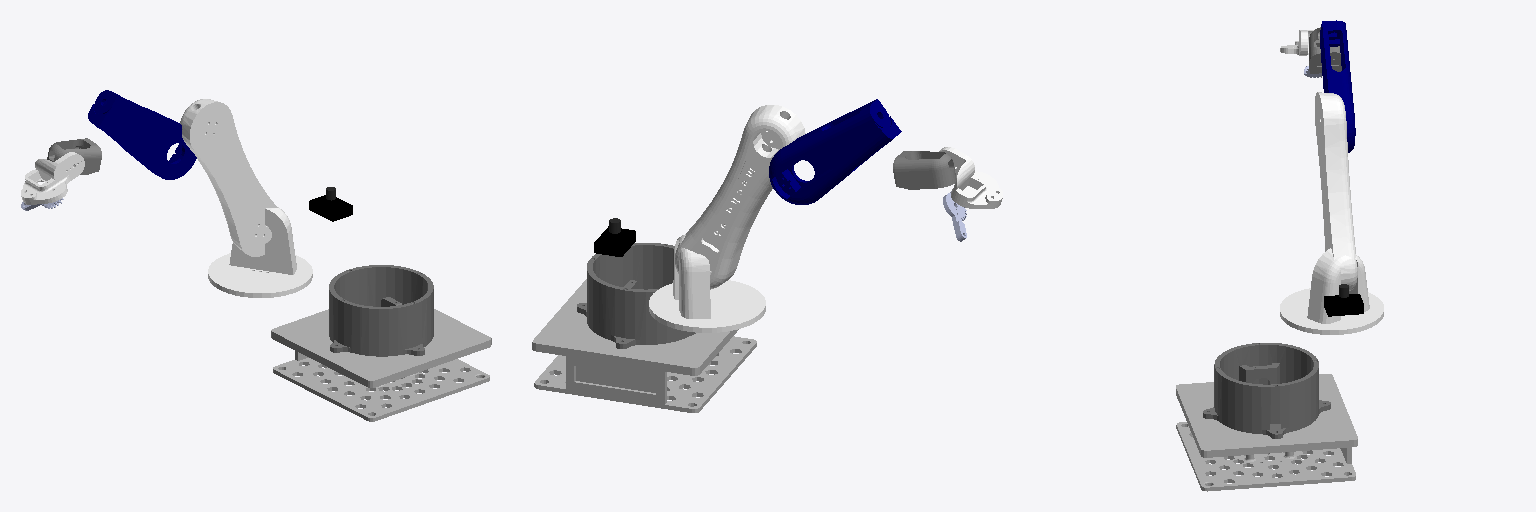
robot.urdf — rob_description:
<?xml version="1.0" encoding="utf-8"?>
<!-- This URDF was automatically created by SolidWorks to URDF Exporter! Originally created by [author] ([email redacted]) 
     Commit Version: 1.6.0-4-g7f85cfe  Build Version: 1.6.7995.38578
     For more information, please see http://wiki.ros.org/sw_urdf_exporter -->

<robot name="rob_description">

  <link name="world">
  </link>

  <joint name="base_joint" type="fixed">
    <parent link="world" />
    <child link="base_link" />
    <origin xyz="0 0 0" rpy="0 0 0.17" />
  </joint>

  <link name="base_link">
    <inertial>
      <origin xyz="-0.124197625058597 0.00274367991498083 0.0281247468294785" rpy="0 0 0" />
      <mass value="0.656438115996678" />
      <inertia ixx="0.003895075898173" ixy="1.5258603889919E-06" ixz="3.39817859970206E-07" iyy="0.00143454936579521" iyz="2.55052553619738E-08" izz="0.00473222212000206" />
    </inertial>
    <visual>
      <origin xyz="0 0 0" rpy="0 0 0" />
      <geometry>
        <mesh filename="package://rob_description/meshes/base_link.STL" />
      </geometry>
      <material name="">
        <color rgba="0.752941176470588 0.752941176470588 0.752941176470588 1" />
      </material>
    </visual>
    <collision>
      <origin xyz="0 0 0" rpy="0 0 0" />
      <geometry>
        <mesh filename="package://rob_description/meshes/base_link.STL" />
      </geometry>
    </collision>
  </link>
  <link name="wheel1_link">
    <inertial>
      <origin xyz="-0.126628947427152 0.126863211060582 0.0253644175398844" rpy="0 0 0" />
      <mass value="0.16694564800894" />
      <inertia ixx="6.72962951133883E-05" ixy="3.10993716638919E-12" ixz="-6.54064729646988E-10" iyy="0.000113206411587749" iyz="-7.85055532052009E-13" izz="6.72927975785051E-05" />
    </inertial>
    <visual>
      <origin xyz="0 0 0" rpy="0 0 0" />
      <geometry>
        <mesh filename="package://rob_description/meshes/wheel1_link.STL" />
      </geometry>
      <material name="">
        <color rgba="0.792156862745098 0.819607843137255 0.933333333333333 1" />
      </material>
    </visual>
    <collision>
      <origin xyz="0 0 0" rpy="0 0 0" />
      <geometry>
        <mesh filename="package://rob_description/meshes/wheel1_link.STL" />
      </geometry>
    </collision>
  </link>
  <joint name="wheel1_joint" type="continuous">
    <origin xyz="0 0 0" rpy="0 0 0" />
    <parent link="base_link" />
    <child link="wheel1_link" />
    <axis xyz="0 1 0" />
  </joint>
  <link name="wheel2_link">
    <inertial>
      <origin xyz="-0.132356573868759 -0.11924947645602 0.0145209236650498" rpy="0 0 0" />
      <mass value="0.166945648038275" />
      <inertia ixx="6.72949006017537E-05" ixy="-2.58989716971125E-12" ixz="-1.83316111335869E-09" iyy="0.000113206411597899" iyz="1.83613688313118E-12" izz="6.7294192100336E-05" />
    </inertial>
    <visual>
      <origin xyz="0 0 0" rpy="0 0 0" />
      <geometry>
        <mesh filename="package://rob_description/meshes/wheel2_link.STL" />
      </geometry>
      <material name="">
        <color rgba="0.792156862745098 0.819607843137255 0.933333333333333 1" />
      </material>
    </visual>
    <collision>
      <origin xyz="0 0 0" rpy="0 0 0" />
      <geometry>
        <mesh filename="package://rob_description/meshes/wheel2_link.STL" />
      </geometry>
    </collision>
  </link>
  <joint name="wheel2_joint" type="continuous">
    <origin xyz="0 0 0" rpy="0 0 0" />
    <parent link="base_link" />
    <child link="wheel2_link" />
    <axis xyz="0 -1 0" />
  </joint>
  <link name="robot_arm_base_link">
    <inertial>
      <origin xyz="-0.0841097706227864 0.00296000015195315 0.0798982076492734" rpy="0 0 0" />
      <mass value="0.0938941939628838" />
      <inertia ixx="0.000113937919229159" ixy="1.97717554016392E-13" ixz="-1.35515920698352E-06" iyy="0.000124247629168402" iyz="1.90758304235409E-13" izz="0.00019754870409629" />
    </inertial>
    <visual>
      <origin xyz="0 0 0" rpy="0 0 0" />
      <geometry>
        <mesh filename="package://rob_description/meshes/robot_arm_base_link.STL" />
      </geometry>
      <material name="">
        <color rgba="0.501960784313725 0.501960784313725 0.501960784313725 1" />
      </material>
    </visual>
    <collision>
      <origin xyz="0 0 0" rpy="0 0 0" />
      <geometry>
        <mesh filename="package://rob_description/meshes/robot_arm_base_link.STL" />
      </geometry>
    </collision>
  </link>
  <joint name="robot_arm_base_joint" type="fixed">
    <origin xyz="0 0 0" rpy="0 0 0" />
    <parent link="base_link" />
    <child link="robot_arm_base_link" />
    <axis xyz="0 0 0" />
  </joint>
  <link name="waist_link">
    <inertial>
      <origin xyz="0.000490534598058534 0.00704050001251394 0.0194229347811711" rpy="0 0 0" />
      <mass value="0.0897213187915502" />
      <inertia ixx="6.69870835095452E-05" ixy="7.17073610799377E-07" ixz="-5.53858118213932E-07" iyy="7.7222881300376E-05" iyz="-7.9486360872497E-06" izz="7.06954475493964E-05" />
    </inertial>
    <visual>
      <origin xyz="0 0 0" rpy="0 0 0" />
      <geometry>
        <mesh filename="package://rob_description/meshes/waist_link.STL" />
      </geometry>
      <material name="">
        <color rgba="1 1 1 1" />
      </material>
    </visual>
    <collision>
      <origin xyz="0 0 0" rpy="0 0 0" />
      <geometry>
        <mesh filename="package://rob_description/meshes/waist_link.STL" />
      </geometry>
    </collision>
  </link>
  <joint name="waist_joint" type="revolute">
    <origin xyz="-0.085 0.00296 0.1075" rpy="0 0 0" />
    <parent link="robot_arm_base_link" />
    <child link="waist_link" />
    <axis xyz="0 0 1" />
    <limit lower="0" upper="3.14" effort="75" velocity="0.8" />
  </joint>
  <link name="shoulder_link">
    <inertial>
      <origin xyz="-0.0475584553075368 0.0516585411294978 0.0030088093884187" rpy="0 0 0" />
      <mass value="0.137970306984549" />
      <inertia ixx="0.000239851106526361" ixy="0.000189808220305717" ixz="-1.33685834192359E-05" iyy="0.00020481238441309" iyz="1.32282307592766E-05" izz="0.000430722001612285" />
    </inertial>
    <visual>
      <origin xyz="0 0 0" rpy="0 0 0" />
      <geometry>
        <mesh filename="package://rob_description/meshes/shoulder_link.STL" />
      </geometry>
      <material name="">
        <color rgba="1 1 1 1" />
      </material>
    </visual>
    <collision>
      <origin xyz="0 0 0" rpy="0 0 0" />
      <geometry>
        <mesh filename="package://rob_description/meshes/shoulder_link.STL" />
      </geometry>
    </collision>
  </link>
  <joint name="shoulder_joint" type="revolute">
    <origin xyz="-0.00010428 -0.0014964 0.04355" rpy="1.5708 0 0" />
    <parent link="waist_link" />
    <child link="shoulder_link" />
    <axis xyz="0.069519 0 -0.99758" />
    <limit lower="-1" upper="2" effort="75" velocity="0.8" />
  </joint>
  <link name="elbow_link">
    <inertial>
      <origin xyz="-0.0276454769847446 0.0155096589335578 0.00637856049678223" rpy="0 0 0" />
      <mass value="0.080334498653636" />
      <inertia ixx="4.11810091327579E-05" ixy="3.55247130545039E-05" ixz="7.08648095039748E-07" iyy="8.45958491486384E-05" iyz="-4.06302383515936E-07" izz="0.000117226203963148" />
    </inertial>
    <visual>
      <origin xyz="0 0 0" rpy="0 0 0" />
      <geometry>
        <mesh filename="package://rob_description/meshes/elbow_link.STL" />
      </geometry>
      <material name="">
        <color rgba="0 0 0.501960784313725 1" />
      </material>
    </visual>
    <collision>
      <origin xyz="0 0 0" rpy="0 0 0" />
      <geometry>
        <mesh filename="package://rob_description/meshes/elbow_link.STL" />
      </geometry>
    </collision>
  </link>
  <joint name="elbow_joint" type="revolute">
    <origin xyz="-0.093675 0.10332 -0.014748" rpy="3.1416 0.069576 3.1416" />
    <parent link="shoulder_link" />
    <child link="elbow_link" />
    <axis xyz="0 0 1" />
    <limit lower="-4" upper="-0.86" effort="75" velocity="0.8" />
  </joint>
  <link name="wrist_link">
    <inertial>
      <origin xyz="-0.00118309122262411 -0.0039364200615125 0.0184467141282572" rpy="0 0 0" />
      <mass value="0.0204563504008736" />
      <inertia ixx="5.17811686973616E-06" ixy="2.73998953034205E-07" ixz="1.25534139399487E-07" iyy="5.991730933685E-06" iyz="3.69182185409196E-07" izz="2.96023551391771E-06" />
    </inertial>
    <visual>
      <origin xyz="0 0 0" rpy="0 0 0" />
      <geometry>
        <mesh filename="package://rob_description/meshes/wrist_link.STL" />
      </geometry>
      <material name="">
        <color rgba="0.556862745098039 0.556862745098039 0.556862745098039 1" />
      </material>
    </visual>
    <collision>
      <origin xyz="0 0 0" rpy="0 0 0" />
      <geometry>
        <mesh filename="package://rob_description/meshes/wrist_link.STL" />
      </geometry>
    </collision>
  </link>
  <joint name="wrist_joint" type="revolute">
    <origin xyz="-0.093394 0.047079 0.0069506" rpy="1.5708 -0.14227 -2.0789" />
    <parent link="elbow_link" />
    <child link="wrist_link" />
    <axis xyz="0 0 1" />
    <limit lower="0" upper="3.14" effort="75" velocity="0.8" />
  </joint>
  <link name="wrist_pitch_link">
    <inertial>
      <origin xyz="0.0253677593994059 0.00456975373870733 -0.00566701138303571" rpy="0 0 0" />
      <mass value="0.015575939699384" />
      <inertia ixx="2.51203801898339E-06" ixy="-8.65315111089629E-07" ixz="3.2221304729184E-07" iyy="6.15671574351459E-06" iyz="-2.74443403729919E-07" izz="5.04194532284168E-06" />
    </inertial>
    <visual>
      <origin xyz="0 0 0" rpy="0 0 0" />
      <geometry>
        <mesh filename="package://rob_description/meshes/wrist_pitch_link.STL" />
      </geometry>
      <material name="">
        <color rgba="1 1 1 1" />
      </material>
    </visual>
    <collision>
      <origin xyz="0 0 0" rpy="0 0 0" />
      <geometry>
        <mesh filename="package://rob_description/meshes/wrist_pitch_link.STL" />
      </geometry>
    </collision>
  </link>
  <joint name="wrist_pitch_joint" type="revolute">
    <origin xyz="-0.0064657 -0.020871 0.0284" rpy="1.4466 -1.0584 0" />
    <parent link="wrist_link" />
    <child link="wrist_pitch_link" />
    <axis xyz="0 0 1" />
    <limit lower="0.4" upper="2.74" effort="75" velocity="0.8" />
  </joint>
  <link name="gripper_link">
    <inertial>
      <origin xyz="-0.00709208819990396 -0.00162259086123567 -0.00225628206764517" rpy="0 0 0" />
      <mass value="0.00282448997070331" />
      <inertia ixx="1.32001734214387E-07" ixy="-1.13364132696678E-07" ixz="-1.23949127780939E-08" iyy="4.20433161909524E-07" iyz="-4.25714406507222E-09" izz="5.4141333132697E-07" />
    </inertial>
    <visual>
      <origin xyz="0 0 0" rpy="0 0 0" />
      <geometry>
        <mesh filename="package://rob_description/meshes/gripper_link.STL" />
      </geometry>
      <material name="">
        <color rgba="0.792156862745098 0.819607843137255 0.933333333333333 1" />
      </material>
    </visual>
    <collision>
      <origin xyz="0 0 0" rpy="0 0 0" />
      <geometry>
        <mesh filename="package://rob_description/meshes/gripper_link.STL" />
      </geometry>
    </collision>
  </link>
  <joint name="gripper_joint" type="revolute">
    <origin xyz="0.032863 0.014056 -0.020531" rpy="1.7149 -0.14736 3.1416" />
    <parent link="wrist_pitch_link" />
    <child link="gripper_link" />
    <axis xyz="0 0 -1" />
    <limit lower="0" upper="1" effort="75" velocity="0.8" />
  </joint>
  <link name="caster_wheel_1_link">
    <inertial>
      <origin xyz="-0.0100000103306472 0.0465929489941154 -0.00925407118086155" rpy="0 0 0" />
      <mass value="0.00220626666381252" />
      <inertia ixx="5.95277019646488E-08" ixy="-2.95354155573756E-10" ixz="-9.43818133528679E-14" iyy="4.28938838558849E-08" iyz="1.62135716475396E-11" izz="7.3626398552085E-08" />
    </inertial>
    <visual>
      <origin xyz="0 0 0" rpy="0 0 0" />
      <geometry>
        <mesh filename="package://rob_description/meshes/caster_wheel_1_link.STL" />
      </geometry>
      <material name="">
        <color rgba="0.792156862745098 0.819607843137255 0.933333333333333 1" />
      </material>
    </visual>
    <collision>
      <origin xyz="0 0 0" rpy="0 0 0" />
      <geometry>
        <mesh filename="package://rob_description/meshes/caster_wheel_1_link.STL" />
      </geometry>
    </collision>
  </link>
  <joint name="caster_wheel_1_joint" type="continuous">
    <origin xyz="0 0 0" rpy="0 0 0" />
    <parent link="base_link" />
    <child link="caster_wheel_1_link" />
    <axis xyz="0 0 1" />
  </joint>
  <link name="caster_wheel_2_link">
    <inertial>
      <origin xyz="-0.0093570342464941 -0.0406465780595049 -0.00925407118086147" rpy="0 0 0" />
      <mass value="0.00220626666381252" />
      <inertia ixx="5.94643667221062E-08" ixy="1.06617523352966E-09" ixz="1.42179391457919E-12" iyy="4.2957219098427E-08" iyz="-1.61513874366659E-11" izz="7.36263985520846E-08" />
    </inertial>
    <visual>
      <origin xyz="0 0 0" rpy="0 0 0" />
      <geometry>
        <mesh filename="package://rob_description/meshes/caster_wheel_2_link.STL" />
      </geometry>
      <material name="">
        <color rgba="0.792156862745098 0.819607843137255 0.933333333333333 1" />
      </material>
    </visual>
    <collision>
      <origin xyz="0 0 0" rpy="0 0 0" />
      <geometry>
        <mesh filename="package://rob_description/meshes/caster_wheel_2_link.STL" />
      </geometry>
    </collision>
  </link>
  <joint name="caster_wheel_2_joint" type="continuous">
    <origin xyz="0 0 0" rpy="0 0 0" />
    <parent link="base_link" />
    <child link="caster_wheel_2_link" />
    <axis xyz="0 0 1" />
  </joint>

  <link name="camera_link">
    <inertial>
      <origin xyz="0 0 0.1" rpy="0 0 0" />
      <mass value="0.1" />
      <inertia ixx="0.0001" ixy="0.0" ixz="0.0" iyy="0.0001" iyz="0.0" izz="0.0001" />
    </inertial>
    <visual>
      <origin xyz="0 0 0" rpy="0 0 0" />
      <geometry>
        <box size="0.025 0.035 0.01" />
        <!-- Represents ESP32-CAM body -->
      </geometry>
      <material name="black">
        <color rgba="0 0 0 1" />
      </material>
    </visual>
    <collision>
      <origin xyz="0 0 0" rpy="0 0 0" />
      <geometry>
        <box size="0.025 0.035 0.01" />
        <!-- Represents ESP32-CAM body -->
      </geometry>
    </collision>
    <visual>
      <origin xyz="0 0 0.015" rpy="0 0 0" />
      <!-- Lens protrusion -->
      <geometry>
        <cylinder length="0.01" radius="0.005" />
      </geometry>
      <material name="lens">
        <color rgba="0.2 0.2 0.2 1" />
      </material>
    </visual>
  </link>

  <joint name="camera_joint" type="fixed">
    <parent link="base_link" />
    <child link="camera_link" />
    <origin xyz="0 0 0.15" rpy="0 0 0" />
  </joint>

</robot>

--- What the picture shows (computed from the rendered views, not written in the file) ---
3 views of the same robot in one strip: view 1: azimuth 30°, elevation 25°; view 2: azimuth 150°, elevation 25°; view 3: azimuth 270°, elevation 25° (orthographic).
Robot: rob_description — 14 links, 13 joints (6 revolute, 4 continuous, 3 fixed); root link world; default pose: joints at zero except 2 at the middle of their limits (elbow_joint = -2.43, wrist_pitch_joint = 1.57).
Visible links, largest first — view 1: base_link, robot_arm_base_link, shoulder_link, waist_link, elbow_link, wrist_pitch_link, wrist_link, camera_link; view 2: base_link, shoulder_link, robot_arm_base_link, elbow_link, waist_link, wrist_link, wrist_pitch_link, camera_link, gripper_link; view 3: base_link, robot_arm_base_link, shoulder_link, waist_link, elbow_link, camera_link, wrist_link.
Boxes of the visible links, x1=… form: base_link: x1=271, y1=309, x2=491, y2=421; robot_arm_base_link: x1=329, y1=265, x2=433, y2=356; shoulder_link: x1=180, y1=99, x2=277, y2=256; waist_link: x1=208, y1=207, x2=312, y2=297; elbow_link: x1=88, y1=90, x2=196, y2=179; wrist_pitch_link: x1=21, y1=152, x2=84, y2=204; wrist_link: x1=47, y1=138, x2=101, y2=174; camera_link: x1=309, y1=187, x2=352, y2=221; base_link: x1=532, y1=279, x2=756, y2=412; shoulder_link: x1=675, y1=105, x2=805, y2=289; robot_arm_base_link: x1=577, y1=243, x2=695, y2=348; elbow_link: x1=769, y1=99, x2=901, y2=204; waist_link: x1=649, y1=234, x2=765, y2=332; wrist_link: x1=893, y1=151, x2=955, y2=189; wrist_pitch_link: x1=939, y1=147, x2=1002, y2=208; camera_link: x1=594, y1=218, x2=635, y2=256; gripper_link: x1=943, y1=191, x2=966, y2=241; base_link: x1=1176, y1=374, x2=1357, y2=491; robot_arm_base_link: x1=1203, y1=343, x2=1330, y2=438; shoulder_link: x1=1315, y1=92, x2=1357, y2=290; waist_link: x1=1280, y1=248, x2=1383, y2=334; elbow_link: x1=1320, y1=20, x2=1355, y2=152; camera_link: x1=1324, y1=284, x2=1363, y2=316; wrist_link: x1=1309, y1=27, x2=1341, y2=73.
Size in the robot's own frame: 0.4601 by 0.1988 by 0.3339 metres.
8 mesh visuals loaded from 12 distinct referenced files (8 binary STL); not drawn: 4 (reference not matched to a file when rendering).
